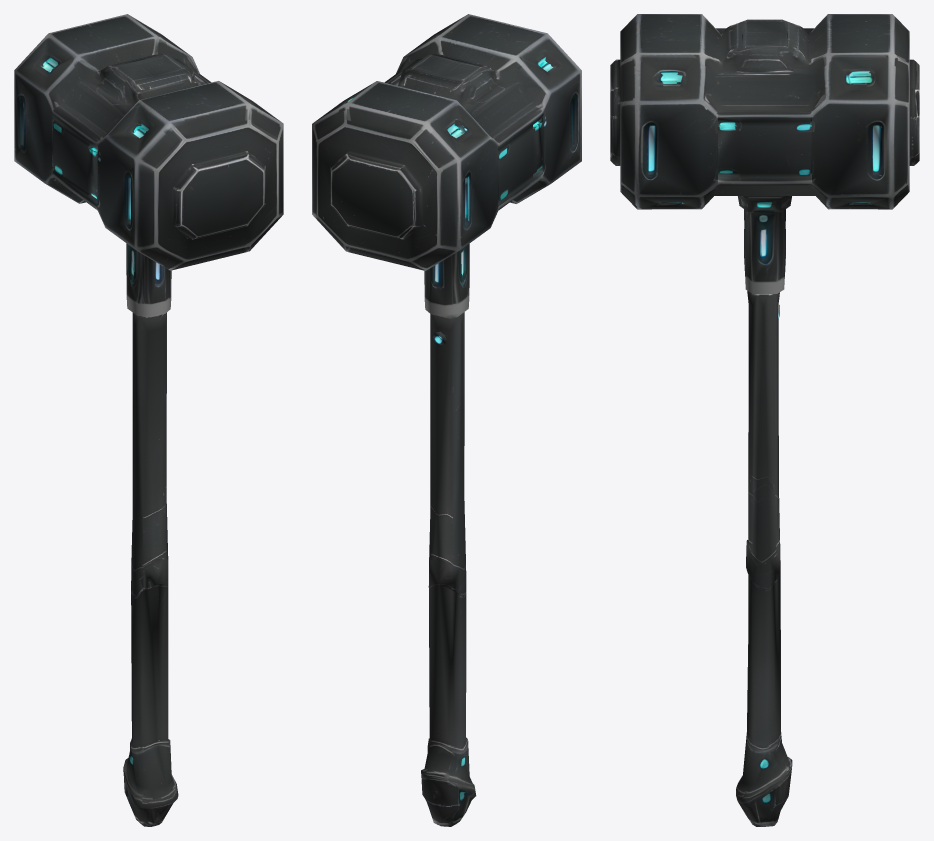
File: hammer.glb
3 views of the same model, side by side, from view 1: azimuth 30°, elevation 25°; view 2: azimuth 150°, elevation 25°; view 3: azimuth 270°, elevation 25° (orthographic). The views are drawn at different scales.
Parts seen in each view (by area): view 1: material; view 2: material; view 3: material.
Part boxes in pixels (x1,y1,x2,y2): material: (14,14,283,826); material: (312,14,581,826); material: (610,14,919,826).
Size of the model in its own units: 0.3886 by 1.9 by 0.6737.
1 material, 1 textured.
